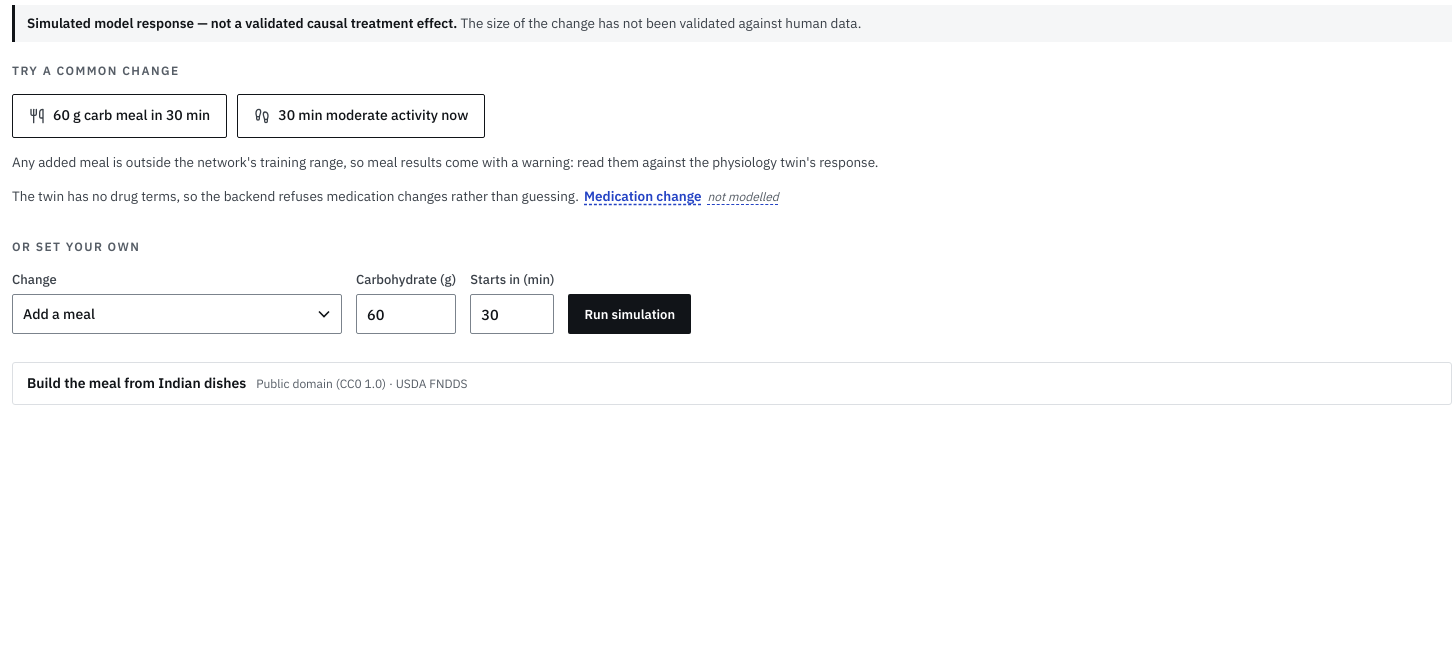
it: ScenarioEditor — backend-driven what-if › derives every readout number from the two same-anchor curves (peaks at different times, as in the live P0017 07:30 response)
Click the button "Run simulation": (630, 314) [568,294,691,334]
(page scrolled)
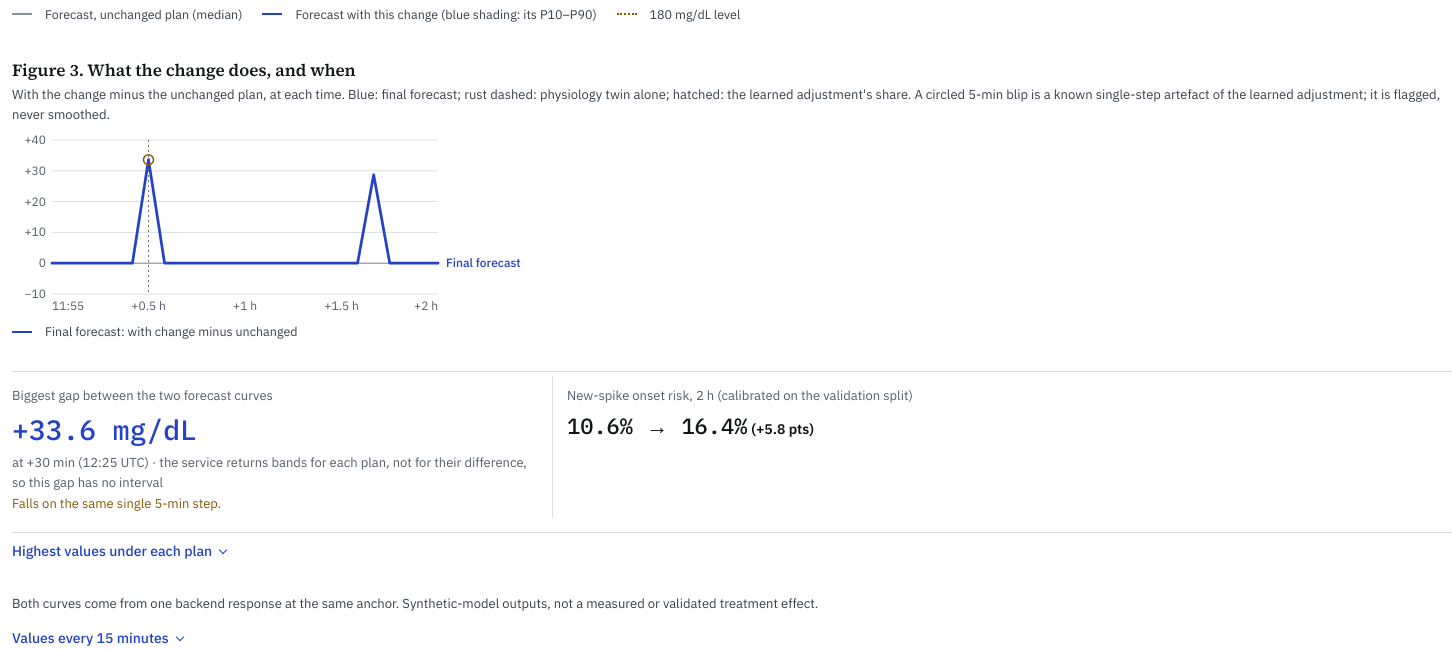
Result: the element with test id "scenario-largest-diff" shows "+33.6 mg/dL at +30 min" at [12,409,538,514]
Result: the element with test id "scenario-risk" reads "10.6% → 16.4% (+5.8 pts)" at [567,411,814,440]
